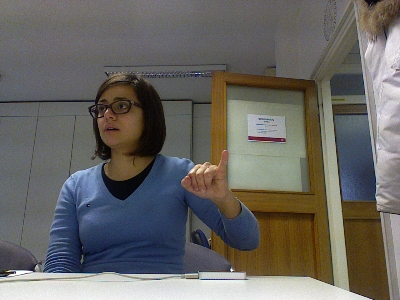小指: (180, 149, 230, 200)
